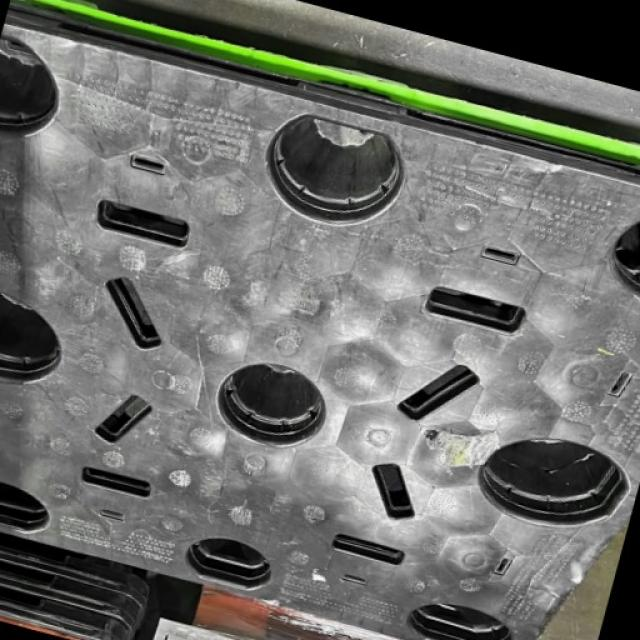non-igps: (0, 0, 640, 640), (0, 530, 154, 619), (0, 555, 151, 639), (0, 581, 140, 640)
